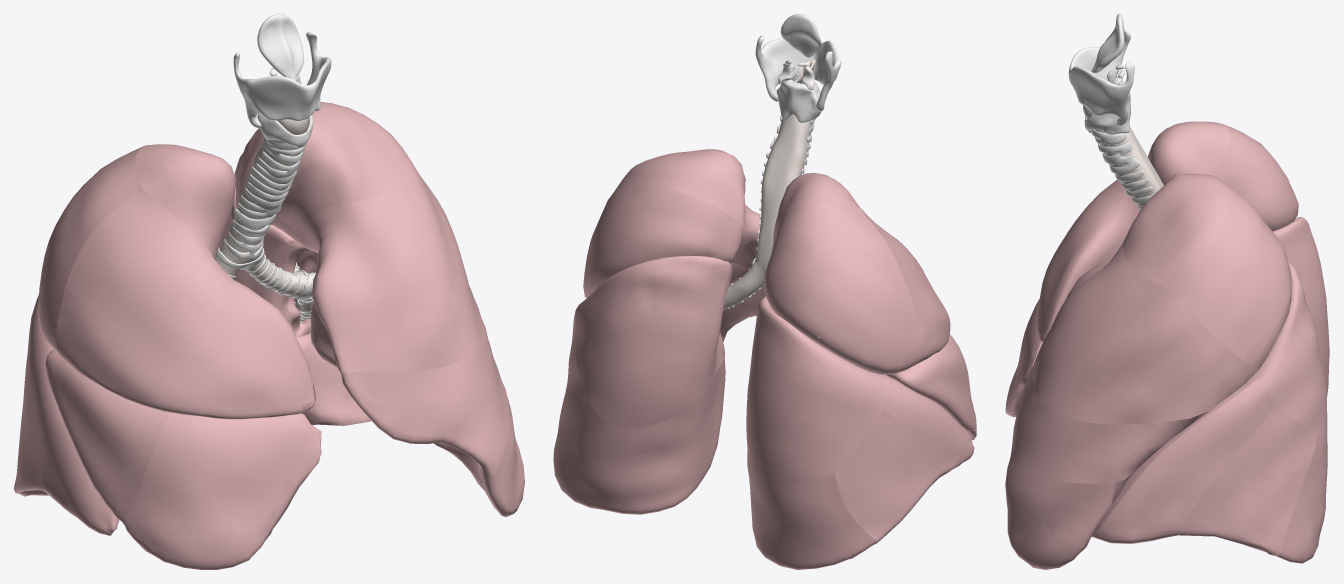
Rendered from lungs.glb.
3 views of the same model, side by side, from view 1: azimuth 30°, elevation 25°; view 2: azimuth 150°, elevation 25°; view 3: azimuth 270°, elevation 25° (orthographic). The views are drawn at different scales.
Parts seen in each view (by area): view 1: VH_M_hilum_L, VH_M_carina, VH_M_trachea, VH_M_bronchial_cartilage; view 2: VH_M_hilum_L, VH_M_trachea, VH_M_carina, VH_M_bronchial_cartilage; view 3: VH_M_hilum_L, VH_M_carina, VH_M_trachea, VH_M_bronchial_cartilage.
Part boxes in pixels (x1,y1,x2,y2): VH_M_hilum_L: (14, 102, 524, 569); VH_M_carina: (216, 31, 331, 270); VH_M_trachea: (215, 118, 314, 321); VH_M_bronchial_cartilage: (223, 14, 315, 322); VH_M_hilum_L: (553, 149, 976, 569); VH_M_trachea: (723, 59, 819, 338); VH_M_carina: (751, 35, 841, 264); VH_M_bronchial_cartilage: (728, 14, 821, 308); VH_M_hilum_L: (1005, 121, 1329, 569); VH_M_carina: (1068, 29, 1155, 210); VH_M_trachea: (1083, 105, 1163, 206); VH_M_bronchial_cartilage: (1091, 14, 1124, 85).
Bounding box in the file's own units: 0.2594 × 0.3146 × 0.1897.
